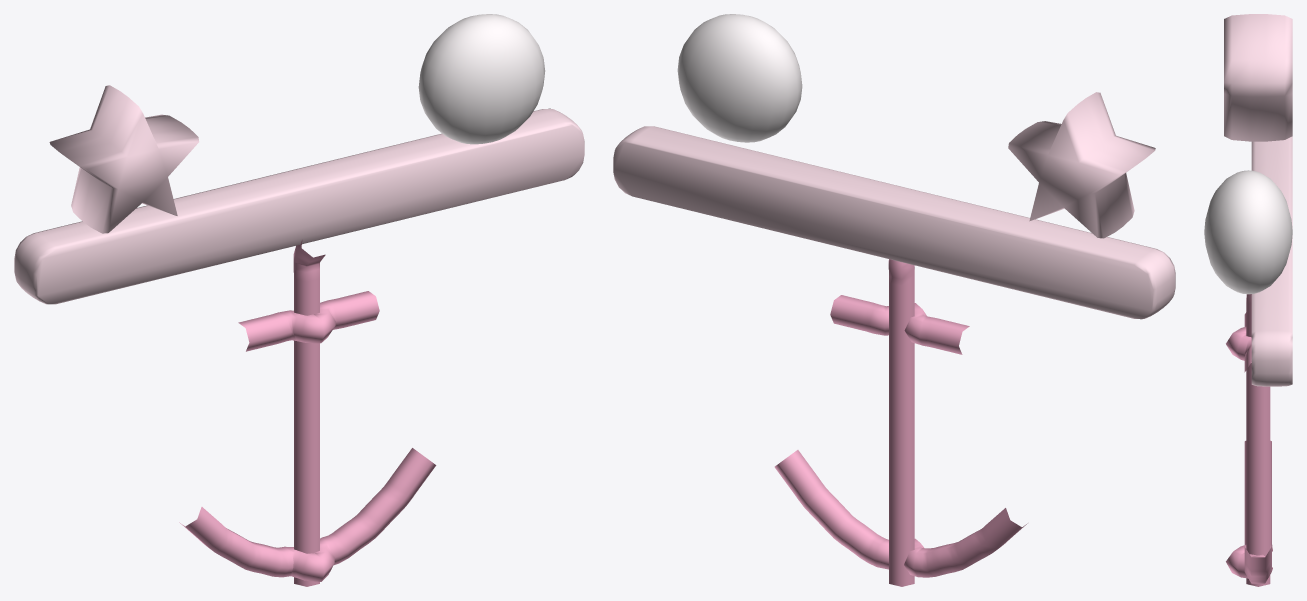
Rendered from decor_5_candy.glb.
3 views of the same model, side by side, from view 1: azimuth 30°, elevation 25°; view 2: azimuth 150°, elevation 25°; view 3: azimuth 270°, elevation 25° (orthographic). The views are drawn at different scales.
Visible parts, largest first — view 1: decor_5_candy; view 2: decor_5_candy; view 3: decor_5_candy.
Part boxes in pixels (x1=…): decor_5_candy: x1=14, y1=14, x2=584, y2=586; decor_5_candy: x1=613, y1=14, x2=1175, y2=586; decor_5_candy: x1=1204, y1=14, x2=1292, y2=586.
Size of the model in its own units: 8.46 by 7.78 by 1.29.
